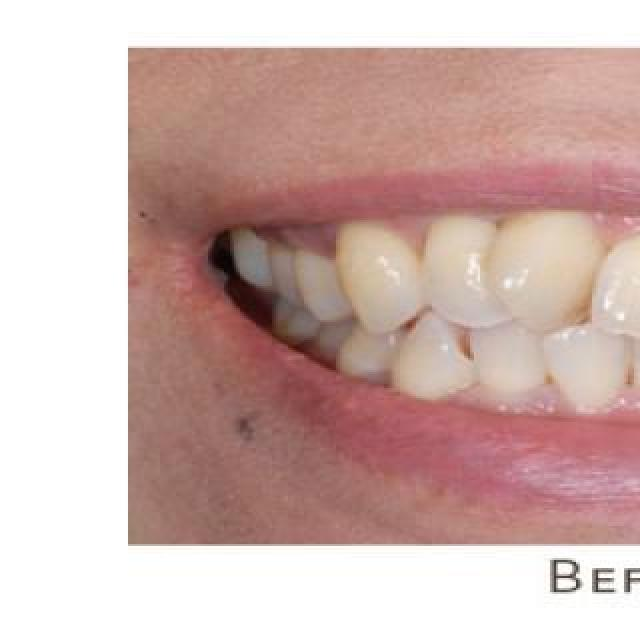maligned: (478, 204, 596, 336), (542, 323, 632, 431), (614, 220, 640, 336)
plaque: (413, 225, 513, 303), (335, 240, 413, 318)
